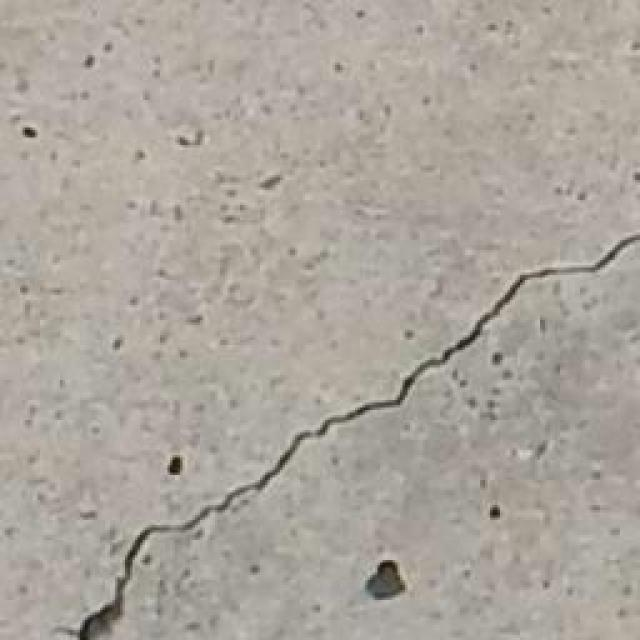concrete-crack: (79, 238, 640, 639), (369, 559, 406, 601)
